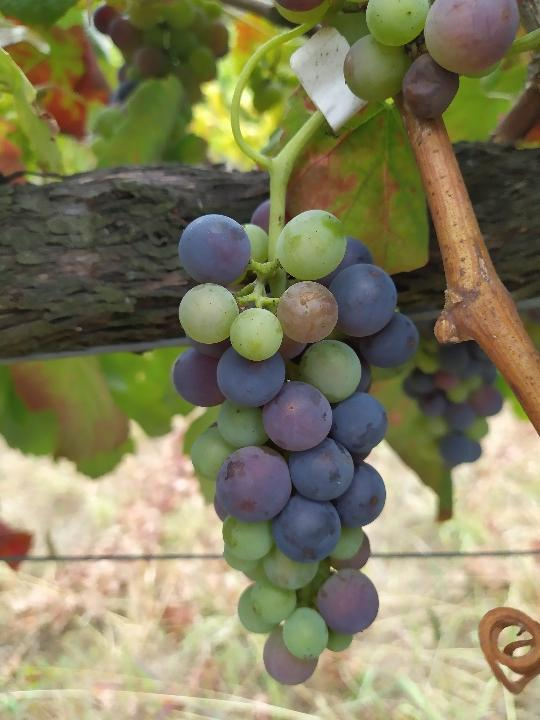grape: (170, 210, 423, 690)
